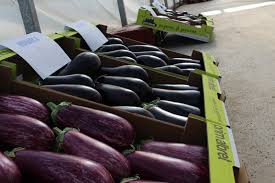eggplant: (104, 60, 210, 123), (43, 92, 135, 152), (99, 28, 206, 76), (10, 144, 117, 182), (121, 142, 203, 179), (0, 109, 59, 154), (135, 128, 209, 162), (38, 66, 102, 101), (0, 88, 52, 119), (0, 152, 22, 183)
